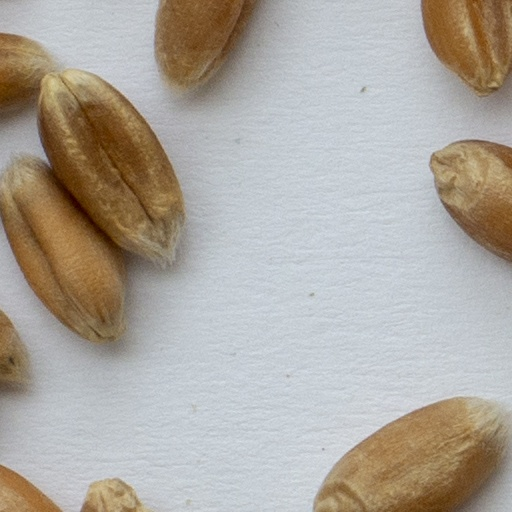Wheat-grain-poly: (42, 69, 184, 266), (311, 388, 511, 511), (0, 148, 125, 344), (433, 142, 511, 263), (78, 472, 174, 511), (0, 306, 34, 390), (0, 464, 57, 511)
